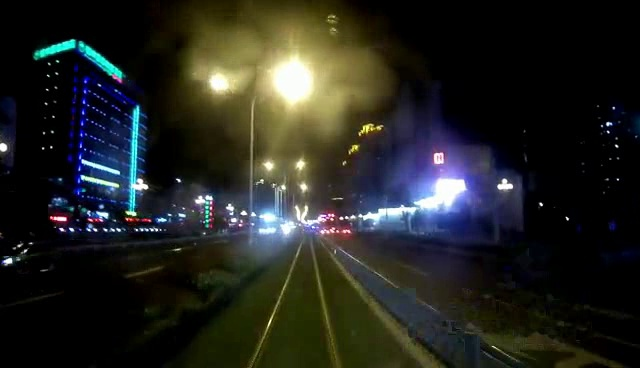car: (0, 237, 68, 276)
